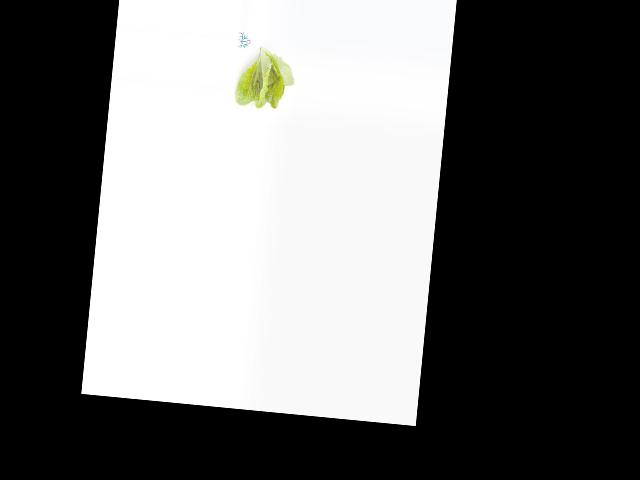lettuce: (235, 44, 298, 113)
